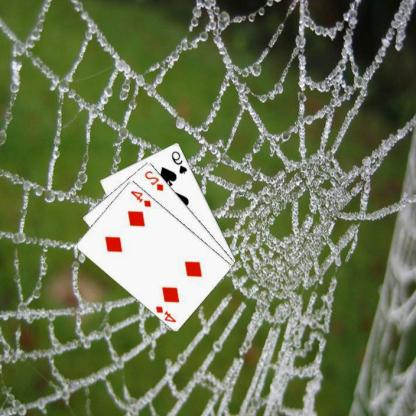2D: (144, 168, 166, 192)
4D: (155, 303, 179, 324), (130, 188, 154, 208)
9S: (171, 148, 190, 175)
